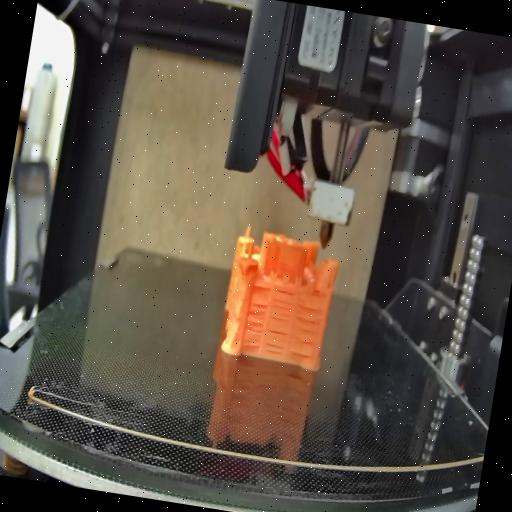cracks: (262, 286, 295, 356), (288, 302, 322, 360), (240, 299, 268, 350), (250, 281, 272, 293)
